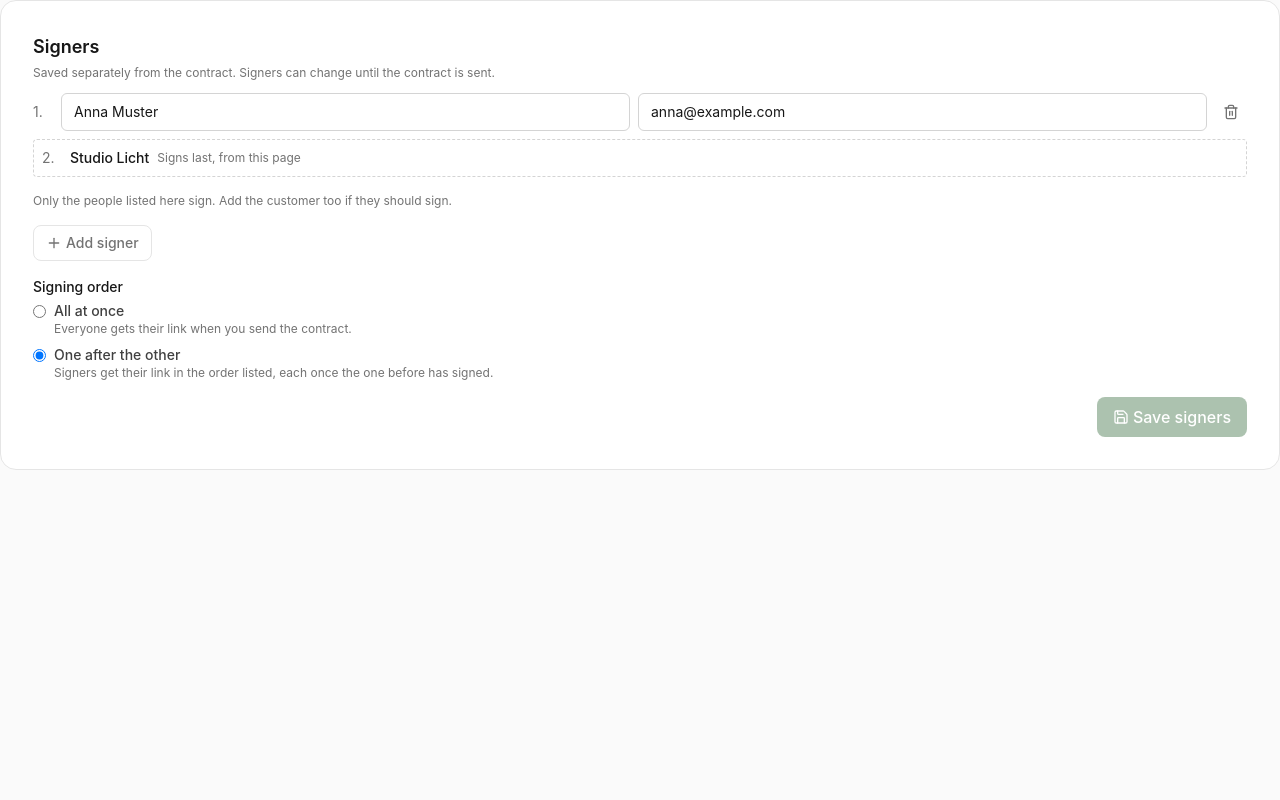
Scenario: loads the saved signers and does not save an invalid email
expect the field showing "anna@example.com" is shown: met, box [638,93,1207,131]
expect the radio button labelled "One after the other" is checked: met, box [33,349,46,362]
Click the button "Add signer" at (92, 243), box [33,225,152,261]
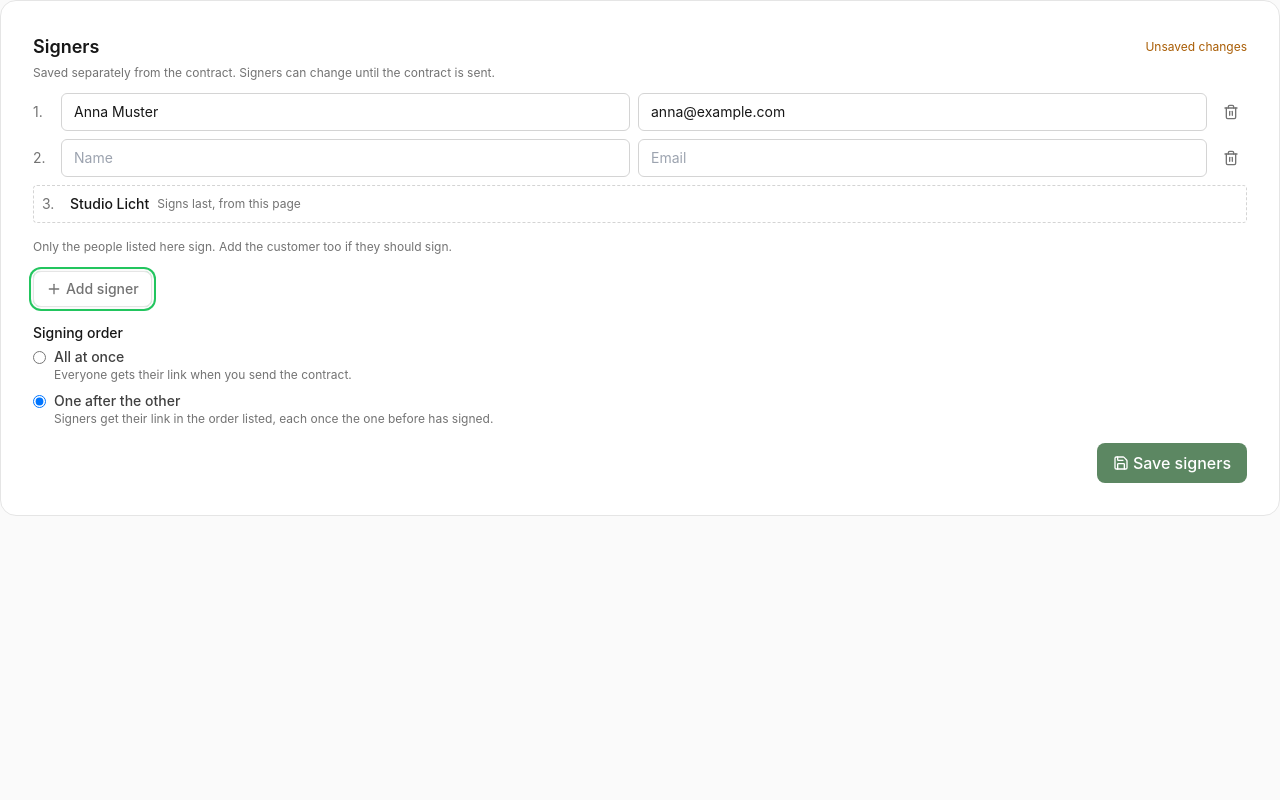
Type "Ben Muster" into the field named "Name of signer 2" at (346, 158), box [61,139,630,177]
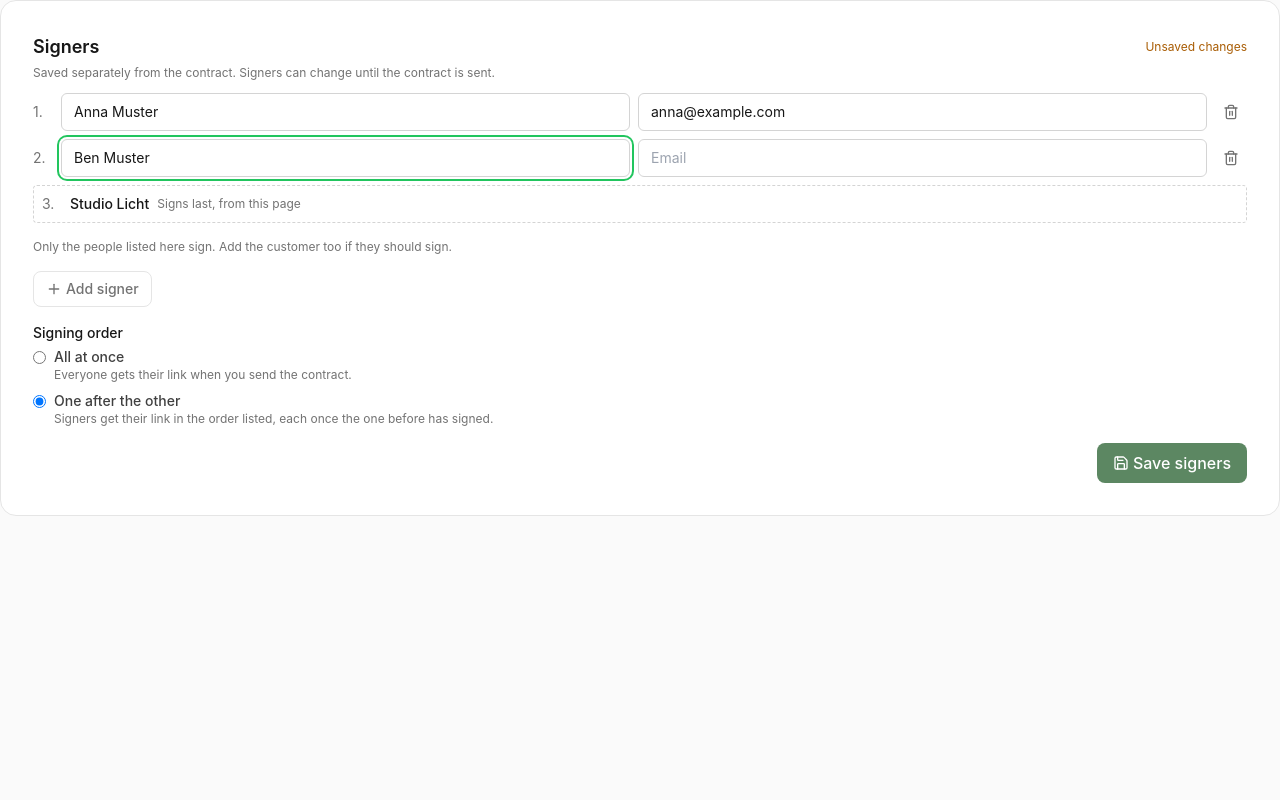
Type "ben-at-example" into the field named "Email of signer 2" at (922, 158), box [638,139,1207,177]
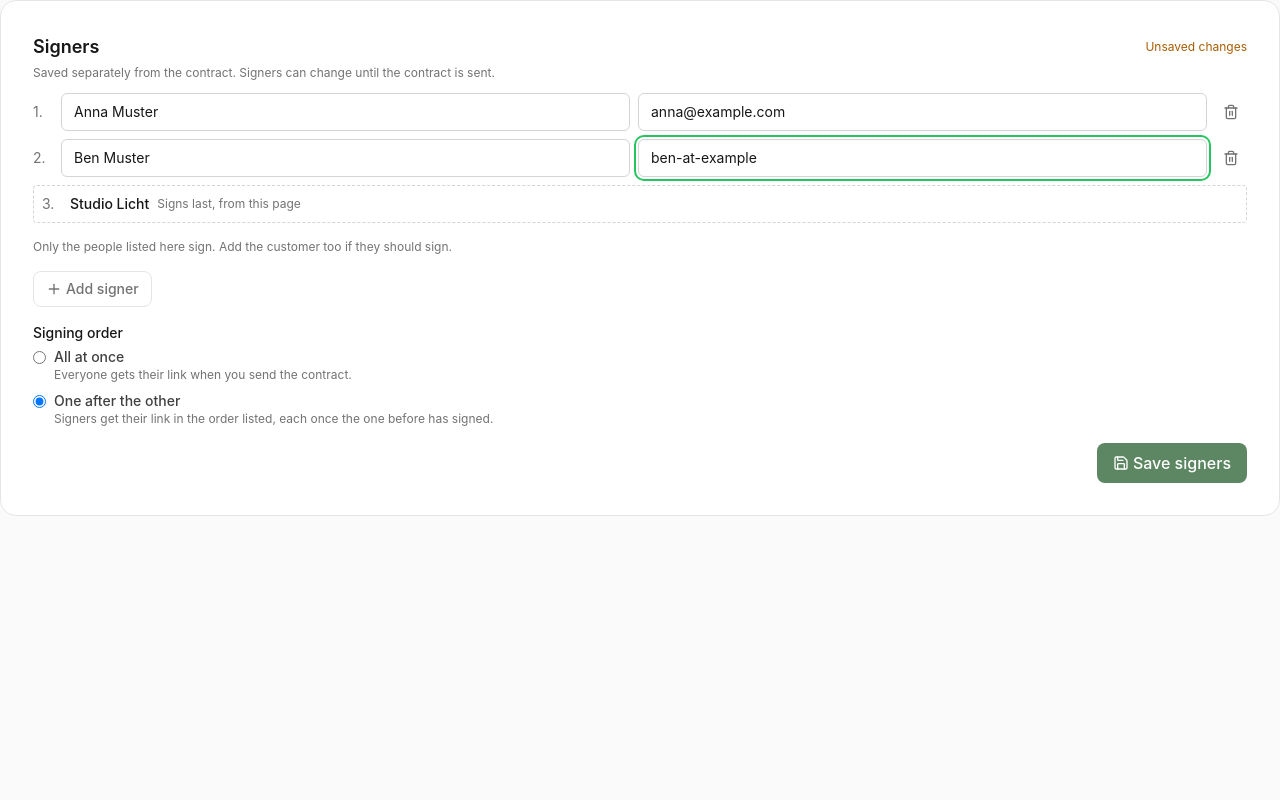
Click the button "Save signers" at (1172, 463), box [1097,443,1247,483]
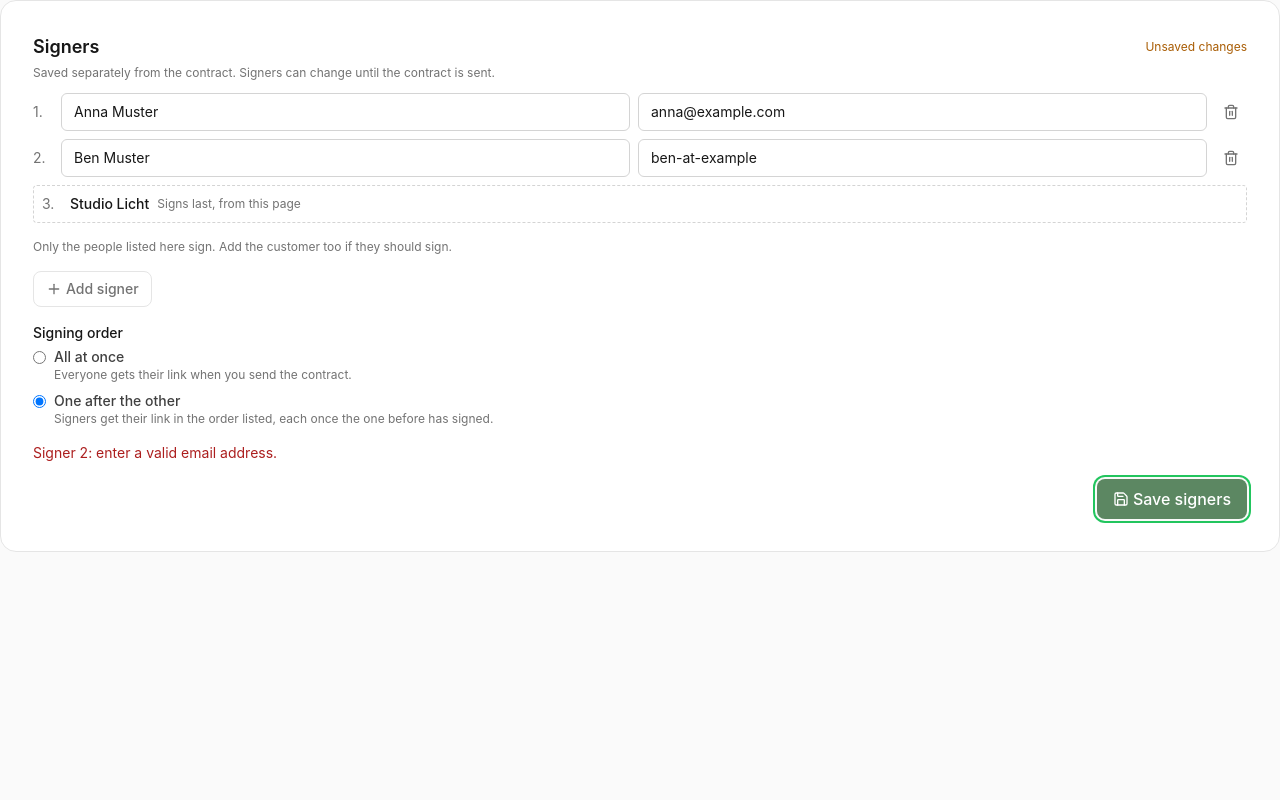
expect the message reads "Signer 2: enter a valid email address.": met, box [33,444,277,461]
